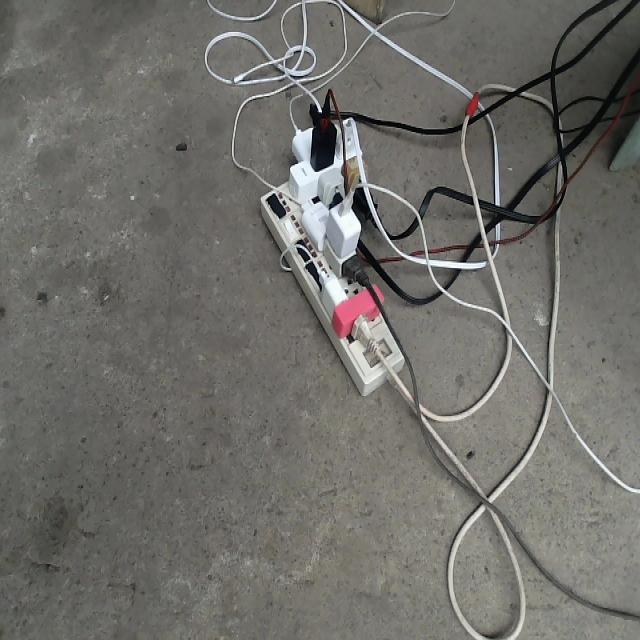-: (259, 88, 404, 393)
